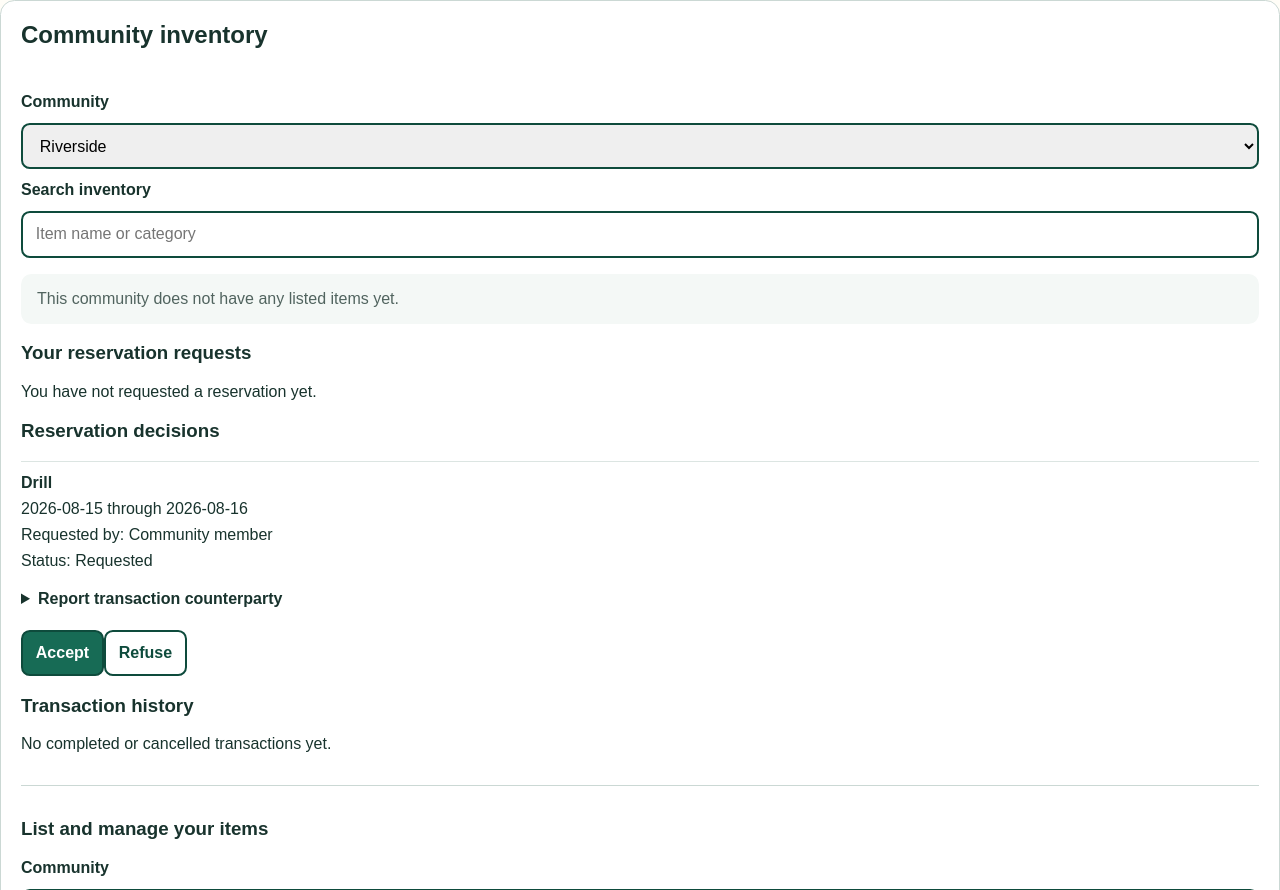
Test: ItemSection › uses the decision RPC and refreshes authoritative status
Click the button with aria-label "Accept reservation for Drill" at point(62, 653), box x1=21 y1=630 x2=104 y2=676
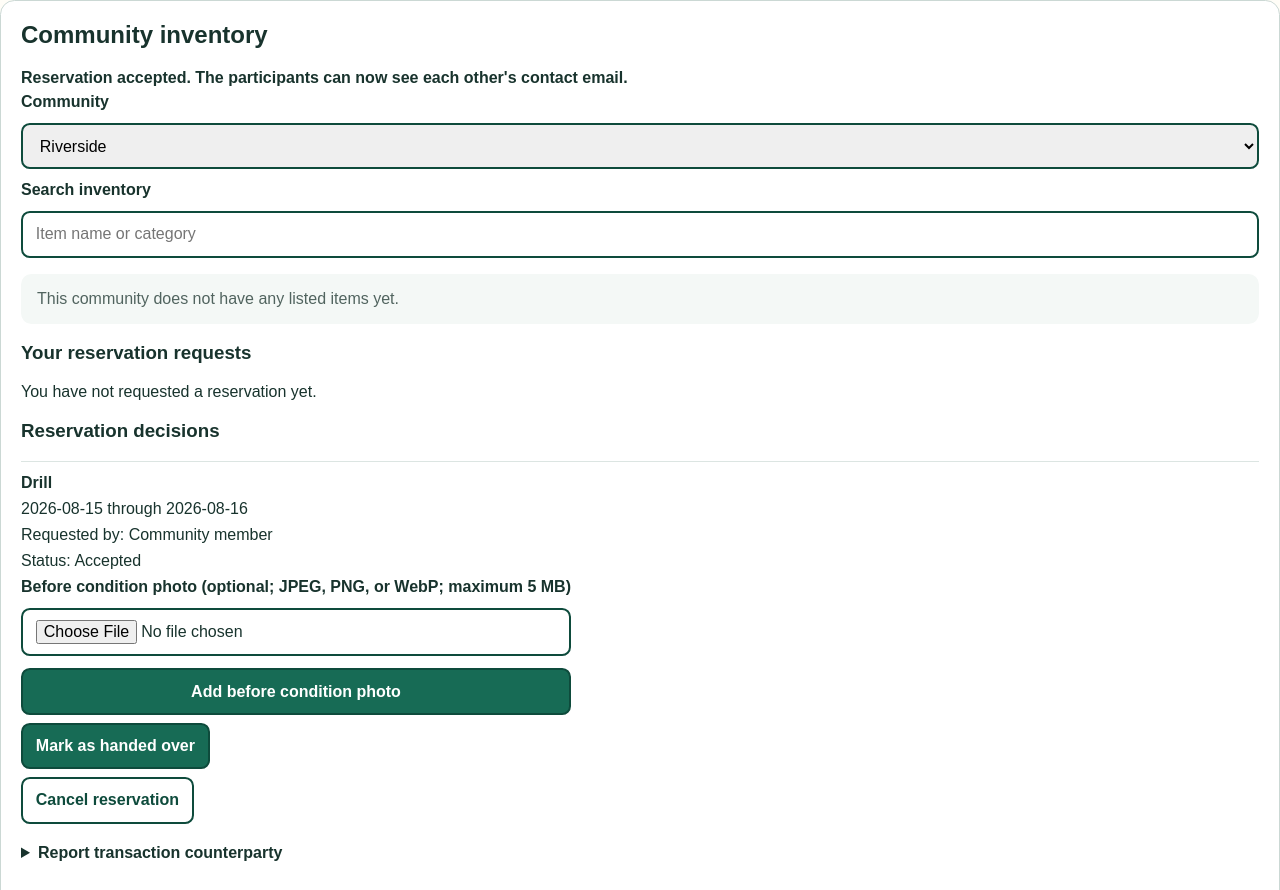
Now the text "Status: Accepted" is shown, box x1=21 y1=552 x2=141 y2=570
